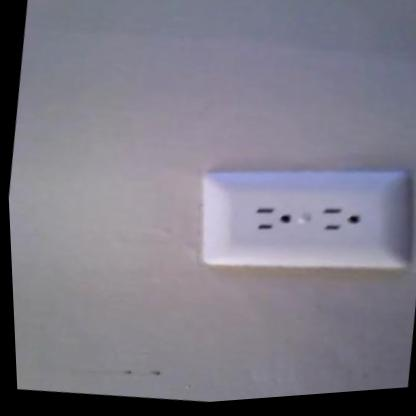OUTLET: (193, 144, 413, 290)
